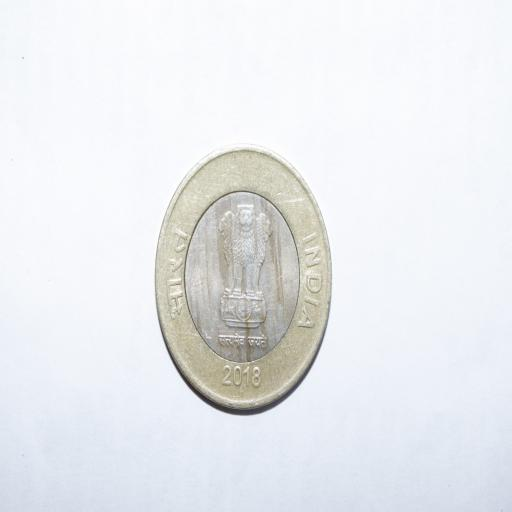rupee10: (152, 144, 333, 413)
